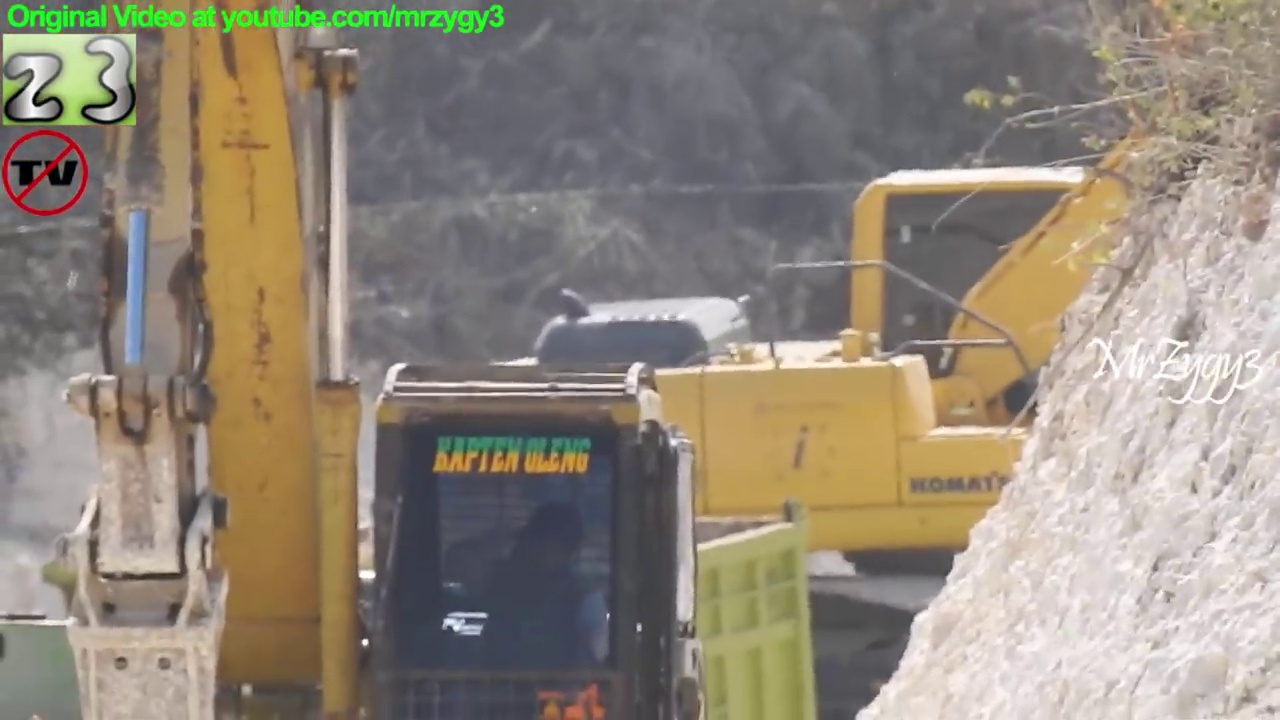excavator: (422, 1, 1280, 720), (29, 1, 720, 720)
truck: (129, 492, 840, 720)
